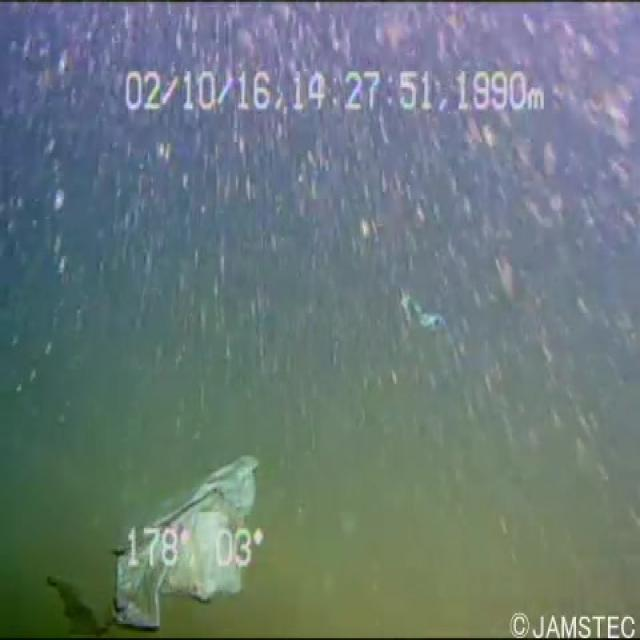plastic: (91, 441, 276, 633), (378, 272, 458, 352)
